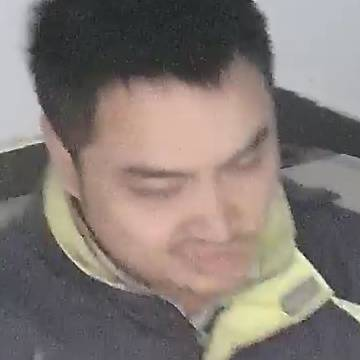mg: (30, 14, 328, 312)
